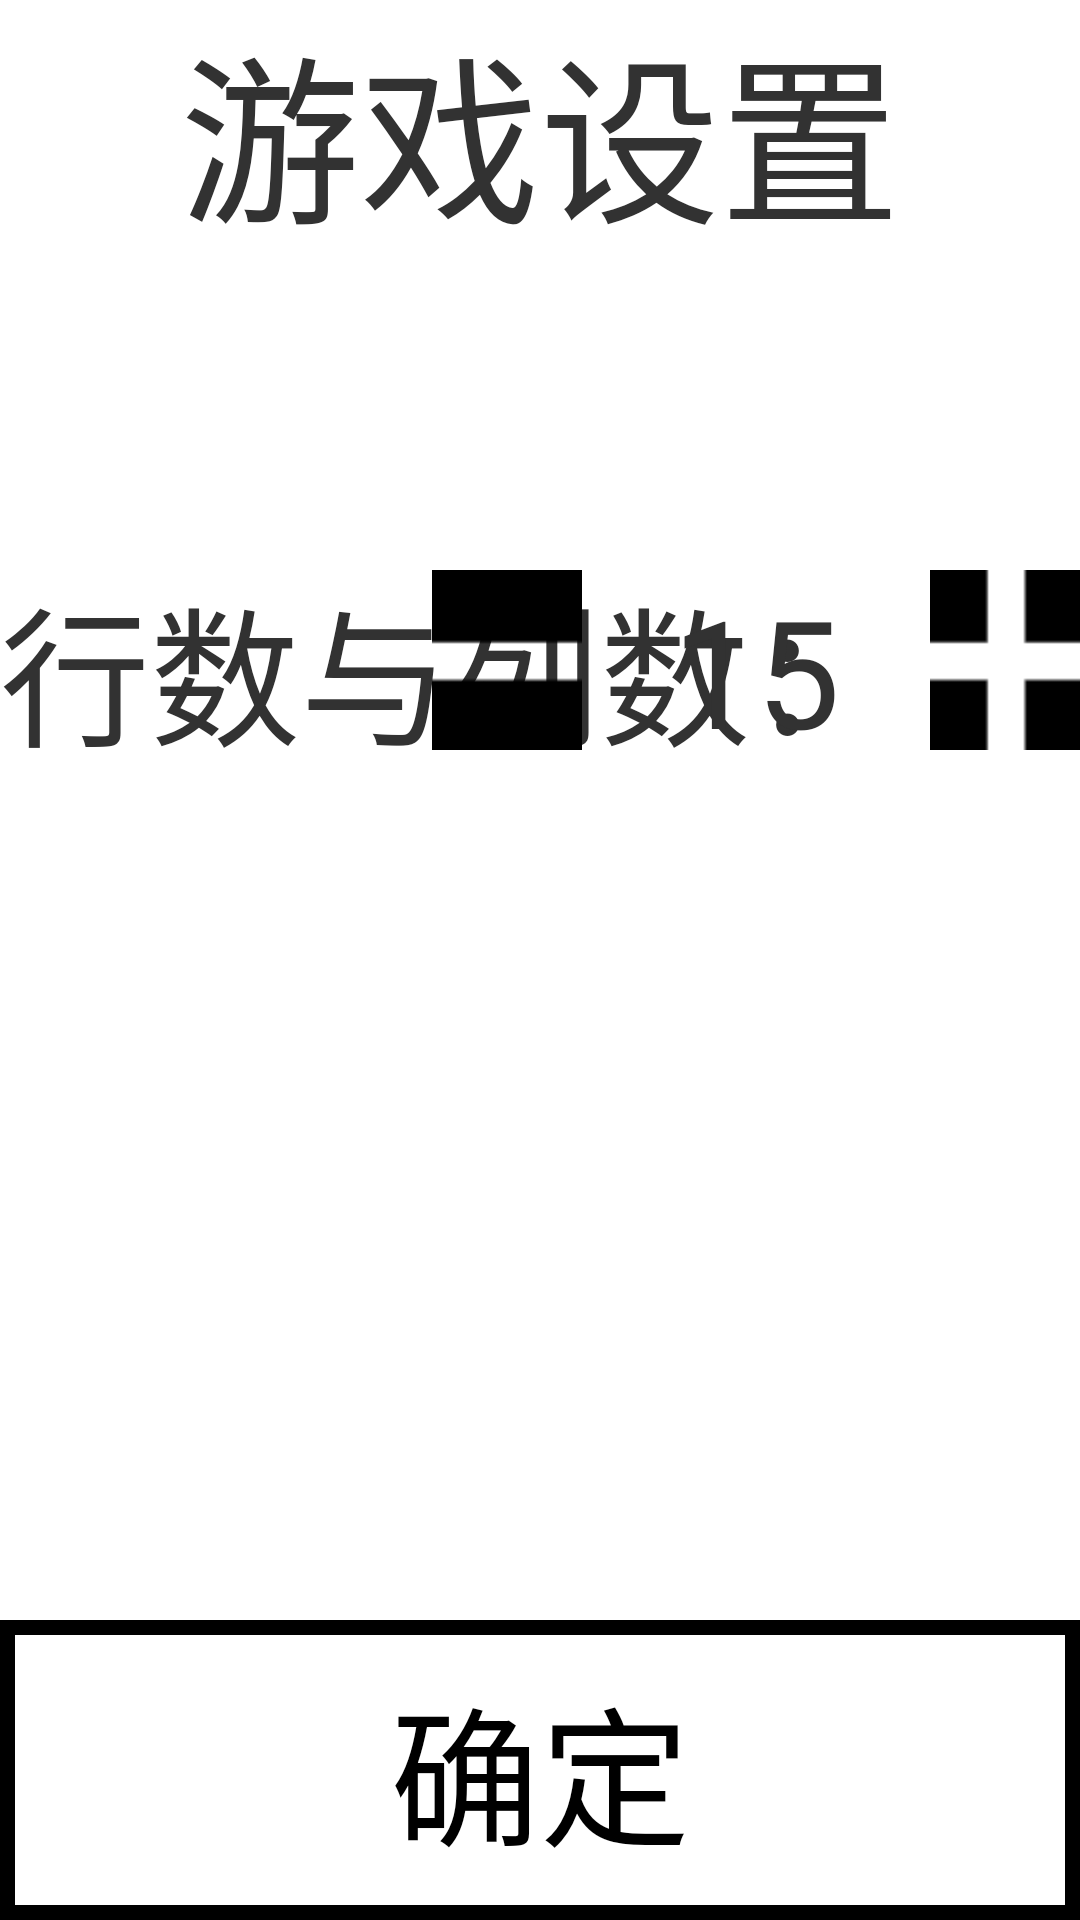

Icons on this 1080x1920 Android screen, each with its box as (x1, y1, x2, y2):
plus: (930, 570, 1080, 750)
